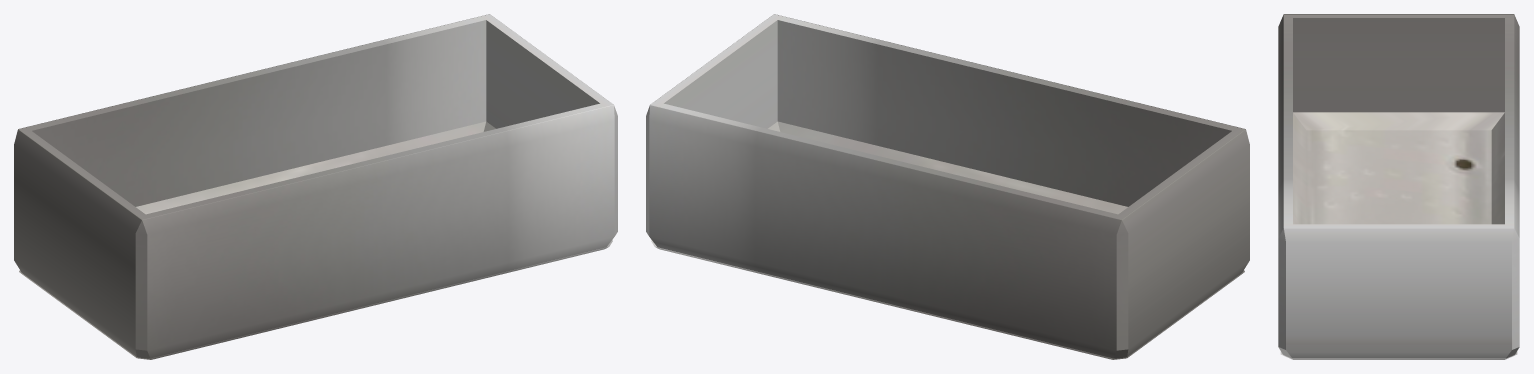
Rendered from banhera.fbx.
3 views of the same model, side by side, from view 1: azimuth 30°, elevation 25°; view 2: azimuth 150°, elevation 25°; view 3: azimuth 270°, elevation 25° (orthographic). The views are drawn at different scales.
Parts seen in each view (by area): view 1: banhera; view 2: banhera; view 3: banhera.
Part boxes in pixels (left/top/right/bottom): banhera: left=14, top=14, right=617, bottom=359; banhera: left=646, top=14, right=1249, bottom=359; banhera: left=1278, top=14, right=1519, bottom=359.
Size of the model in its own units: 469 by 134 by 219.
1 material, 1 textured.
